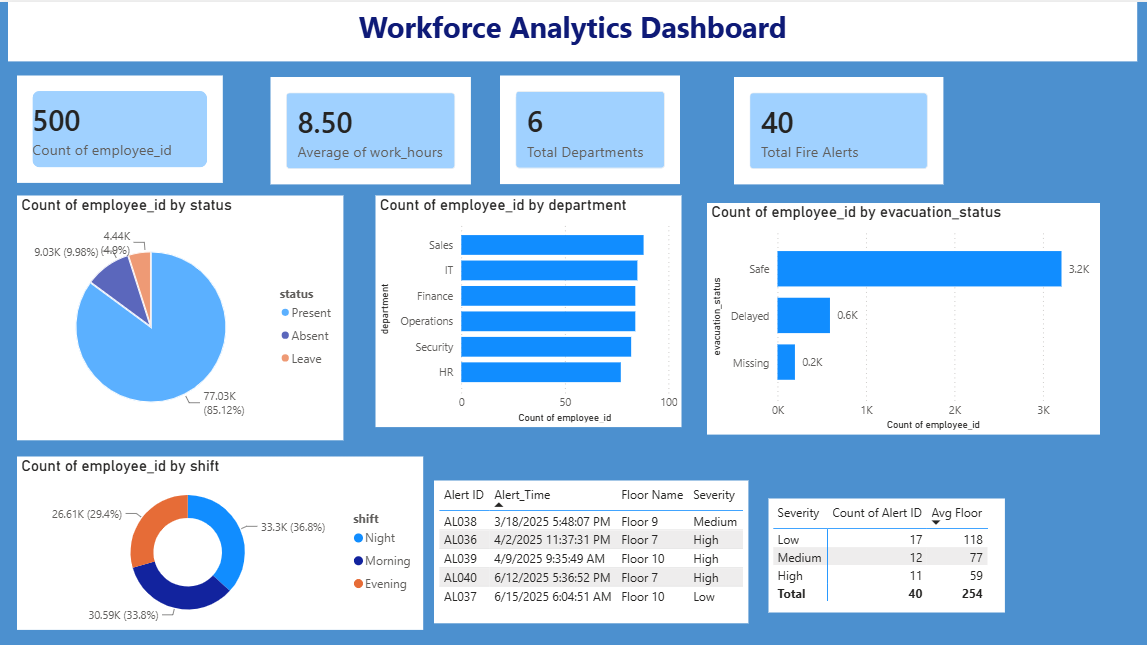

The dashboard page shown, as its layout file describes it:
{"tool":"powerbi","page":{"name":"Page 1","canvas":[1280,720],"ordinal":0},"visuals":[{"type":"textbox","box":[9.4,0,1254.8,66.1],"z":0},{"type":"cardVisual","fields":{"Data":["Count(employees.employee_id)"]},"box":[20.8,81.3,228.7,119.1],"z":1000},{"type":"cardVisual","fields":{"Data":["Avg(attendance_logs.work_hours)"]},"box":[302.4,83.2,223,119.1],"z":2000},{"type":"pieChart","fields":{"Category":["attendance_logs.status"],"Y":["CountNonNull(attendance_logs.employee_id)"]},"box":[20.8,215.4,362.8,272.1],"z":3000},{"type":"clusteredBarChart","fields":{"Category":["employees.department"],"Y":["CountNonNull(employees.employee_id)"]},"box":[417.6,215.4,340.2,257],"z":4000},{"type":"donutChart","fields":{"Category":["employees.shift"],"Y":["CountNonNull(attendance_logs.employee_id)"]},"box":[20.8,504.6,451.7,192.8],"z":5000},{"type":"clusteredBarChart","fields":{"Category":["evacuation_logs.evacuation_status"],"Y":["CountNonNull(evacuation_logs.employee_id)"]},"box":[786.1,223,436.5,257],"z":6000},{"type":"cardVisual","fields":{"Data":["fire_alerts.Total Fire Alerts"]},"box":[816.4,83.2,232.4,119.1],"z":7000},{"type":"tableEx","fields":{"Values":["fire_alerts.Alert ID","fire_alerts.Alert_Time Hierarchy.Alert_Time","fire_alerts.Floor Name","fire_alerts.Severity"]},"box":[483.8,531,349.6,158.7],"z":8000},{"type":"pivotTable","fields":{"Rows":["fire_alerts.Severity"],"Values":["CountNonNull(fire_alerts.Alert ID)","Sum(fire_alerts.Floor)"]},"box":[854.2,551.8,262.7,126.6],"z":9000},{"type":"cardVisual","fields":{"Data":["employees.Total Departments"]},"box":[557.5,81.3,200.3,120.9],"z":10000}]}

Visuals, with their boxes in screenshot pixels (x1, y1, x2, y2), scaled from the page's 1280x720 canvas onto the 1147x645 screenshot:
textbox: 8/0/1133/59
cardVisual - Count(employees.employee_id): 19/73/224/180
cardVisual - Avg(attendance_logs.work_hours): 271/75/471/181
pieChart - attendance_logs.status x CountNonNull(attendance_logs.employee_id): 19/193/344/437
clusteredBarChart - employees.department x CountNonNull(employees.employee_id): 374/193/679/423
donutChart - employees.shift x CountNonNull(attendance_logs.employee_id): 19/452/423/625
clusteredBarChart - evacuation_logs.evacuation_status x CountNonNull(evacuation_logs.employee_id): 704/200/1096/430
cardVisual - fire_alerts.Total Fire Alerts: 732/75/940/181
tableEx - fire_alerts.Alert ID x fire_alerts.Alert_Time Hierarchy.Alert_Time: 434/476/747/618
pivotTable - fire_alerts.Severity x CountNonNull(fire_alerts.Alert ID): 765/494/1001/608
cardVisual - employees.Total Departments: 500/73/679/181
